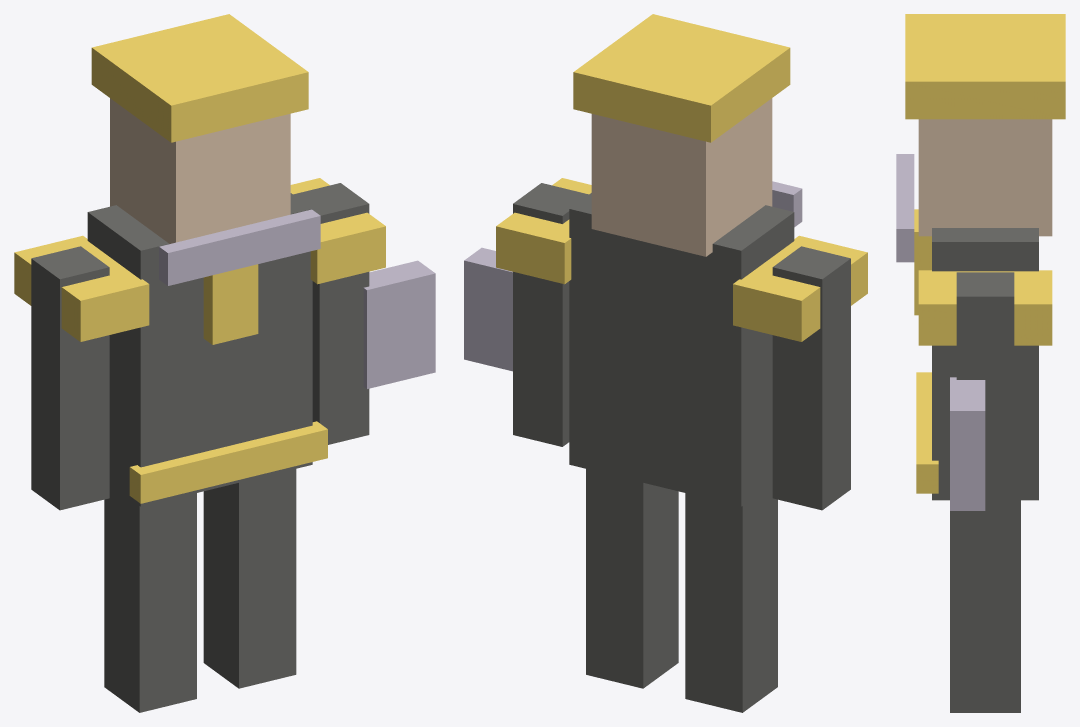
Rendered from 02_eryk_cinderholt_keeper_of_zephyr.glb.
The picture shows the model from 3 angles, left to right: view 1: azimuth 30°, elevation 25°; view 2: azimuth 150°, elevation 25°; view 3: azimuth 270°, elevation 25°; orthographic projection.
Visible parts, largest first — view 1: Eryk Cinderholt, Keeper of Zephyr; view 2: Eryk Cinderholt, Keeper of Zephyr; view 3: Eryk Cinderholt, Keeper of Zephyr.
Boxes of the visible parts, box(x1,y1,x2,y2) form: Eryk Cinderholt, Keeper of Zephyr: box(14, 14, 435, 712); Eryk Cinderholt, Keeper of Zephyr: box(464, 14, 867, 712); Eryk Cinderholt, Keeper of Zephyr: box(896, 14, 1065, 712).
Size of the model in its own units: 1.04 by 1.66 by 0.4068.
